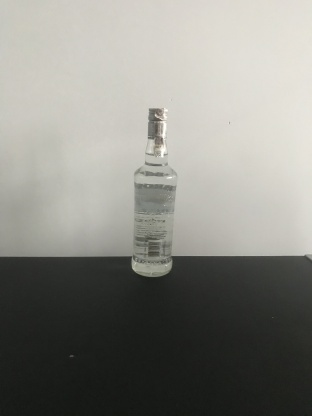nakretka: (146, 104, 169, 140)
